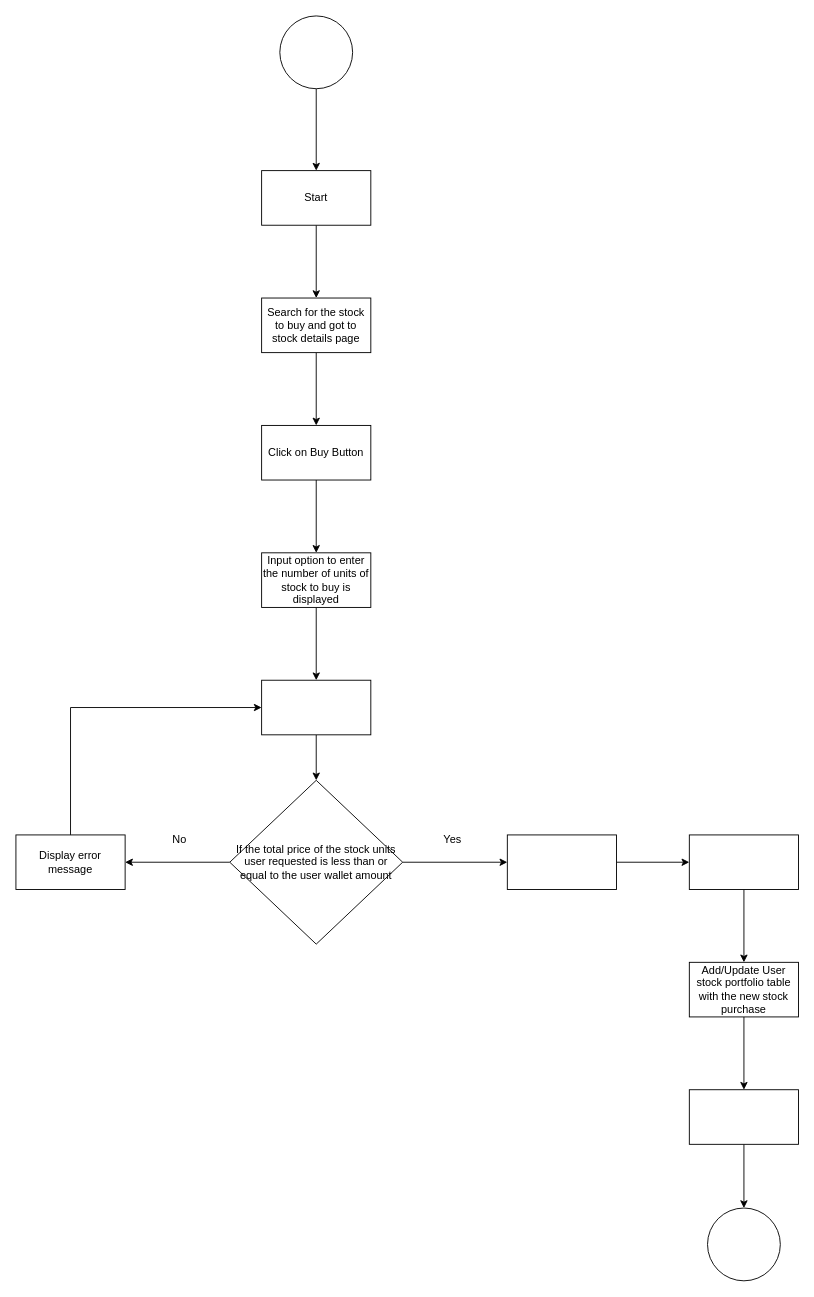
The diagram is 814 pixels wide and 1297 high, and some of its shapes have lost their labels. Each missing label, with the box of its shape:
Create a transaction record in the Stock Transactions Table: (506, 834, 617, 890)
Display Success transaction message: (688, 1089, 799, 1144)
Enter the number of stock units to buy and click on checkout button: (261, 679, 371, 735)
Update use wallet amount in Transactions Table: (688, 834, 799, 890)
